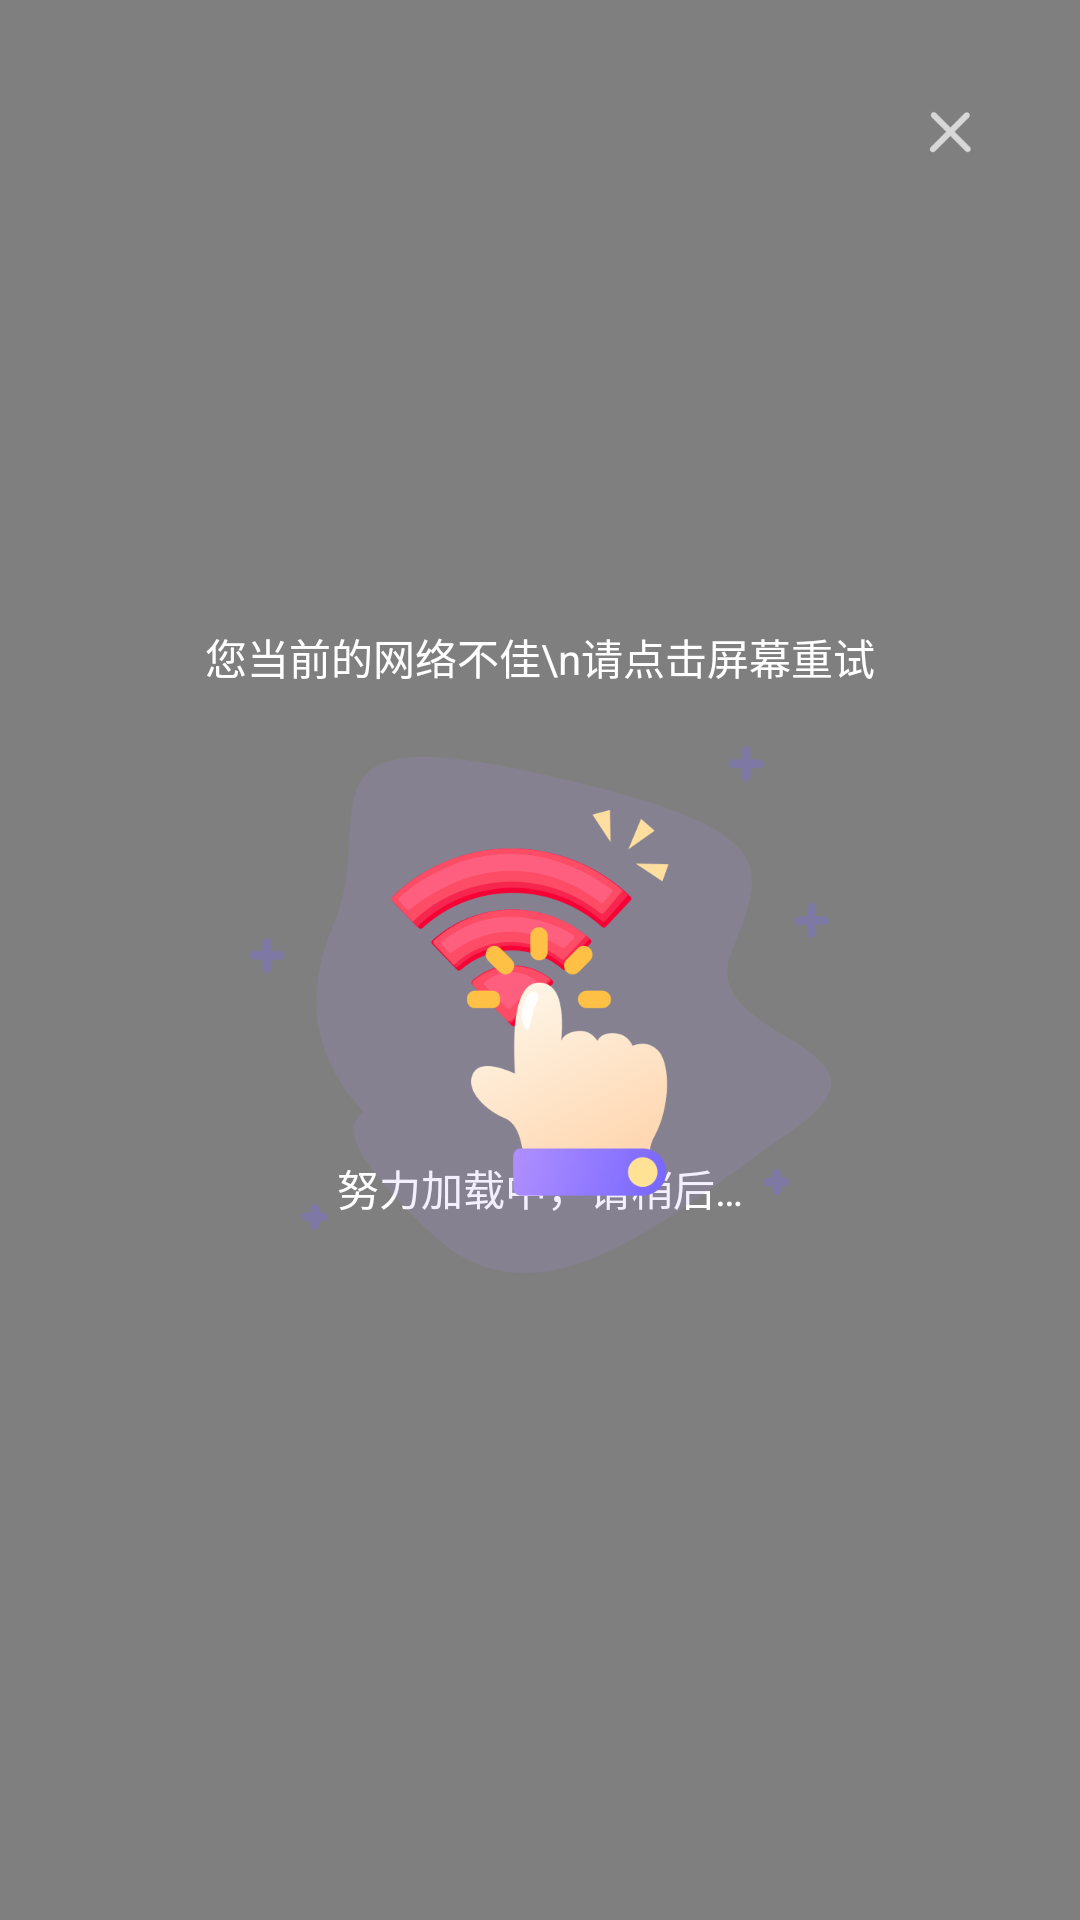

Screen size 1080w x 1920h. Icon name, then its box in pixels as [x1=x1, y1=y1, x2=x2, y2=y2]:
sleep pop close: [x1=930, y1=112, x2=971, y2=152]
